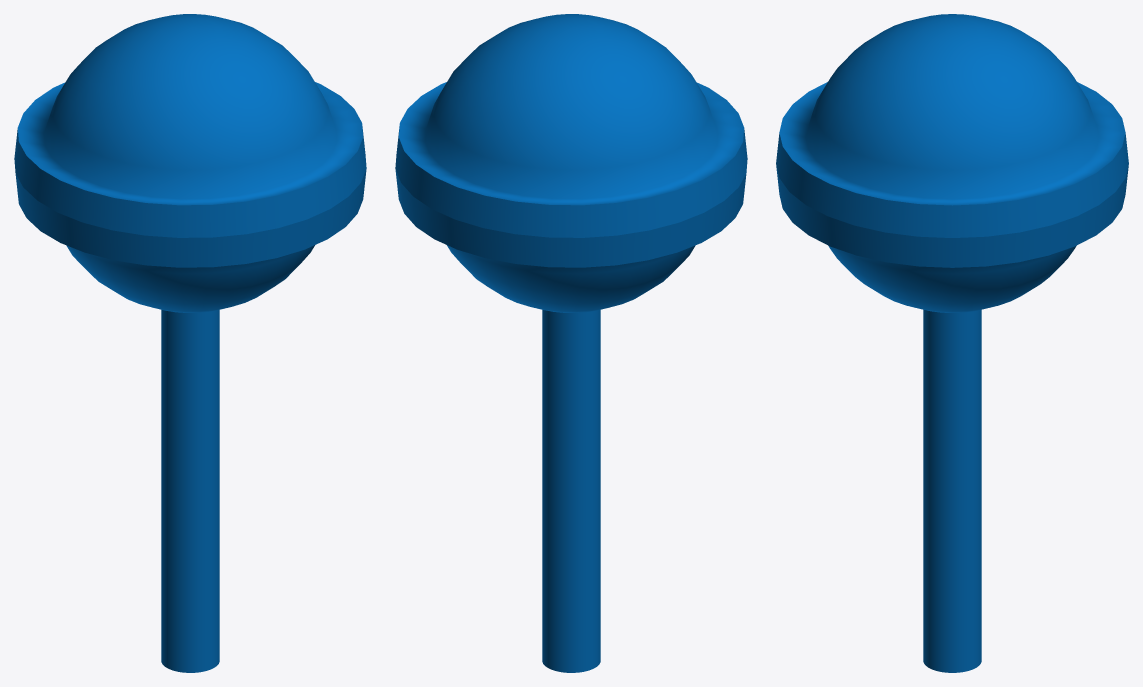
File: chyupa.fbx
3 views of the same model, side by side, from view 1: azimuth 30°, elevation 25°; view 2: azimuth 150°, elevation 25°; view 3: azimuth 270°, elevation 25° (orthographic).
Parts seen in each view (by area): view 1: 円柱; view 2: 円柱; view 3: 円柱.
Boxes of the visible parts, left/top/right/bottom form: 円柱: left=14, top=14, right=366, bottom=672; 円柱: left=395, top=14, right=747, bottom=672; 円柱: left=776, top=14, right=1128, bottom=672.
Bounding box in the file's own units: 236 × 466 × 236.
Materials: 1 (1 with a texture image).
